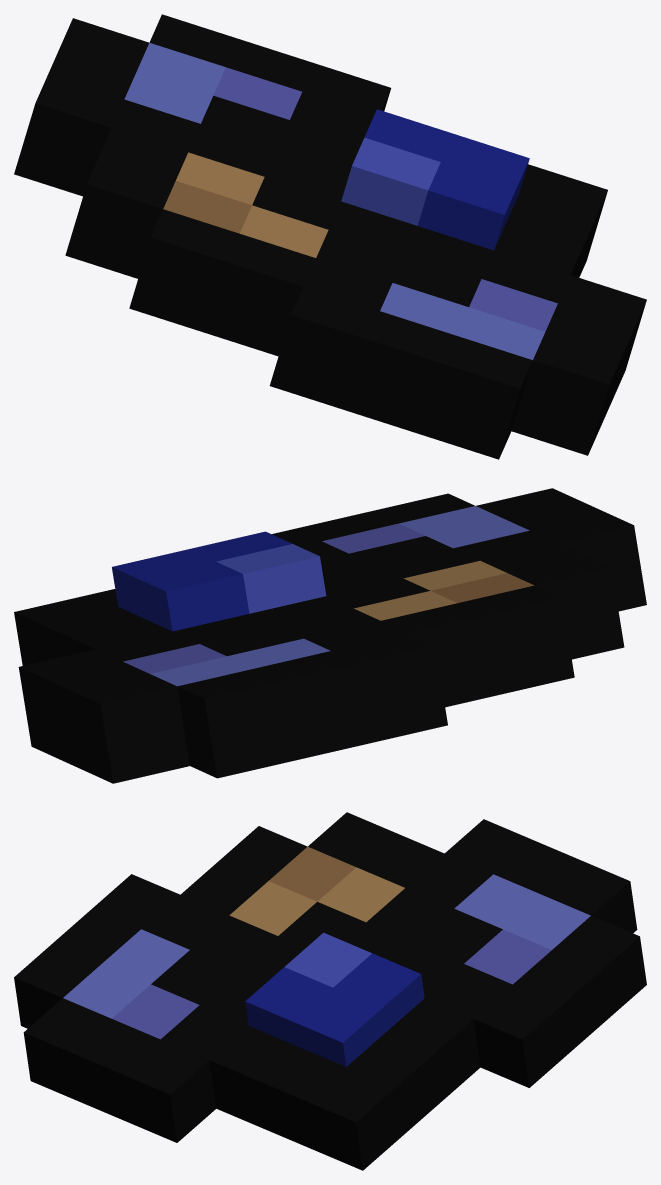
File: Blue Paint Bowmetacharging3.glb
The picture shows the model from 3 angles, top to bottom: view 1: azimuth 30°, elevation 25°; view 2: azimuth 150°, elevation 25°; view 3: azimuth 270°, elevation 25°; orthographic projection. The views are drawn at different scales.
Parts seen in each view (by area): view 1: generated(Clone); view 2: generated(Clone); view 3: generated(Clone).
Boxes of the visible parts, x1,y1,x2,y2 form: generated(Clone): (14,14,646,459); generated(Clone): (14,488,646,783); generated(Clone): (14,812,646,1170).
Bounding box in the file's own units: 7.82 × 3.13 × 10.04.
1 material, 1 textured.
